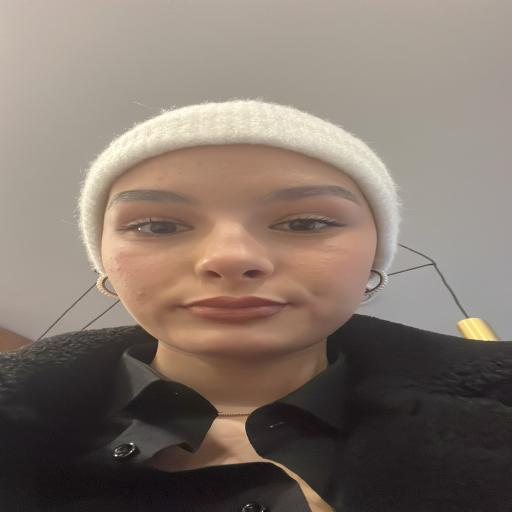marija: (99, 146, 380, 358)
